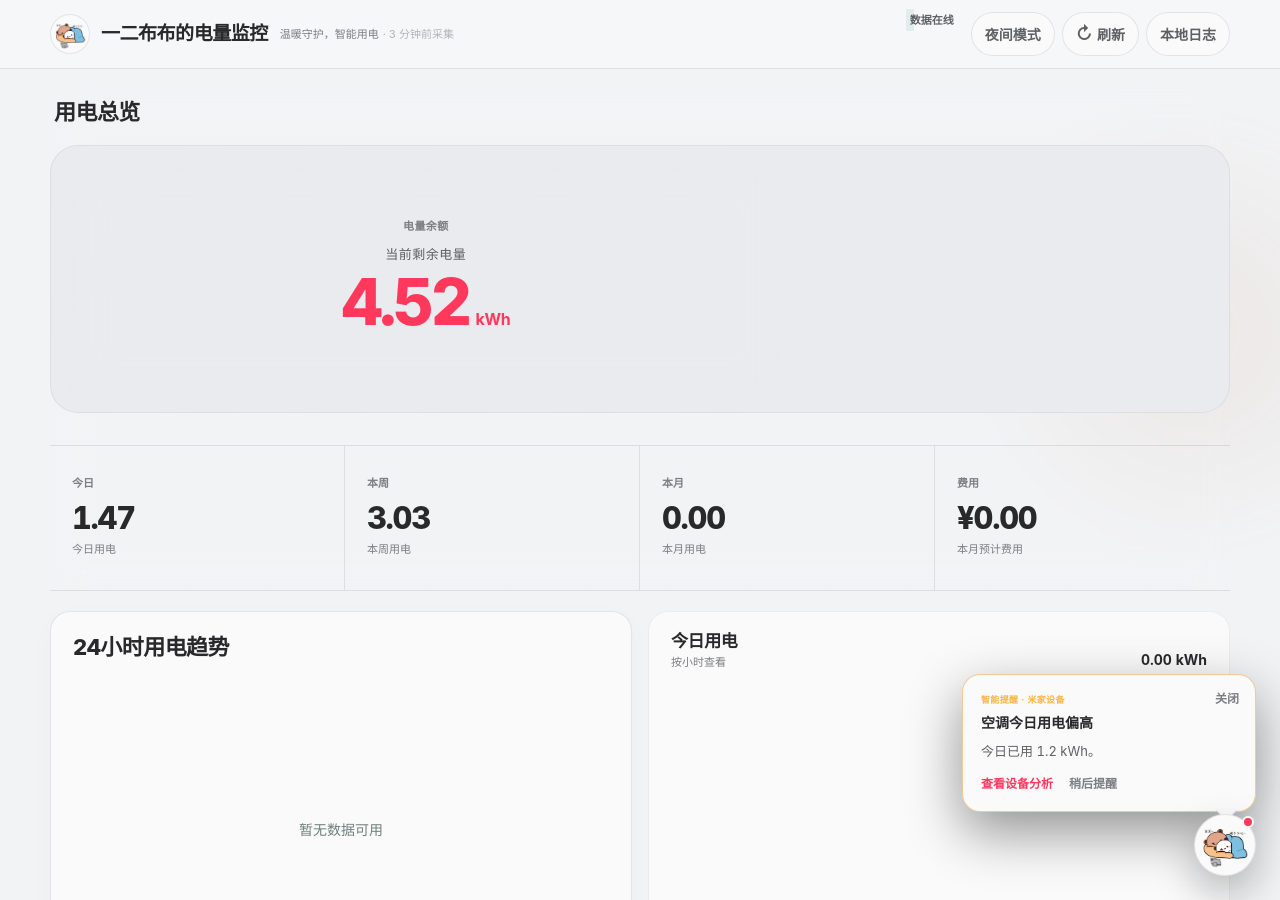
restores the saved assistant conversation after remounting
The width and height of the screenshot is (1280, 900).
Step 1. Click the button named "打开布布用电助手" → (1225, 845), box [1194,814,1256,876]
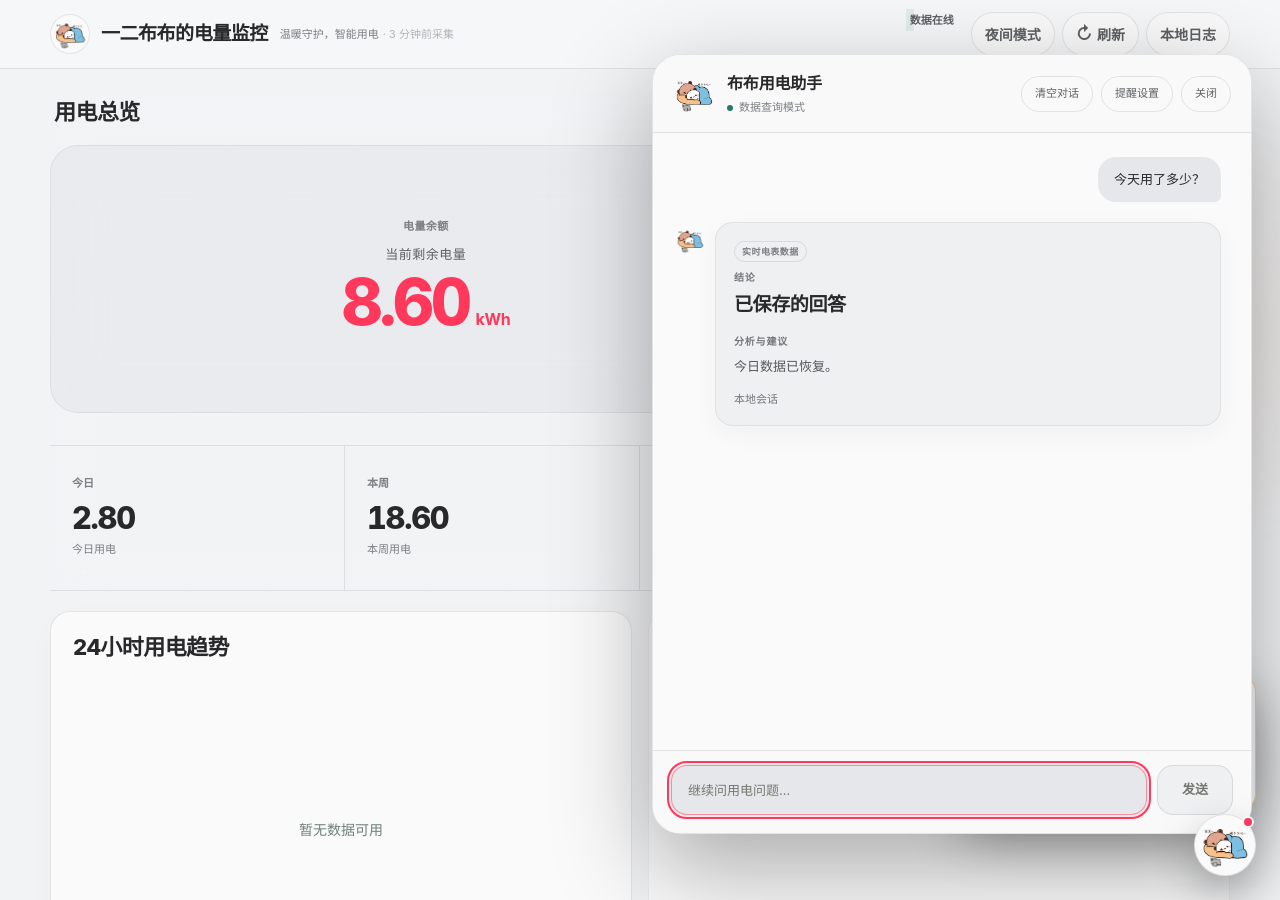
Expected: the text "已保存的回答" is shown, [734,293,846,316]
Expected: the text "今天用了多少？" is shown, [1098,157,1221,202]
